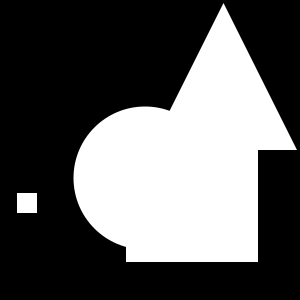circle: (126, 130, 258, 262), (17, 193, 37, 213)
rectangle: (74, 107, 216, 250)
triangle: (150, 3, 297, 150), (93, 195, 115, 217)
